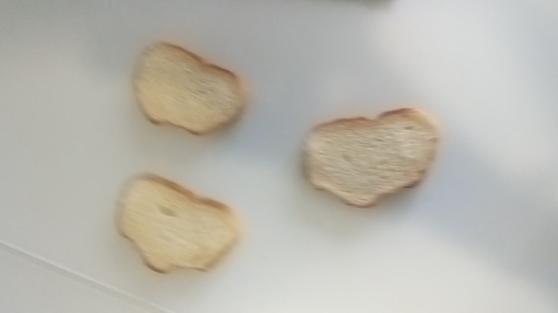white_bread: (302, 109, 440, 209), (115, 172, 239, 274), (129, 38, 245, 135)
